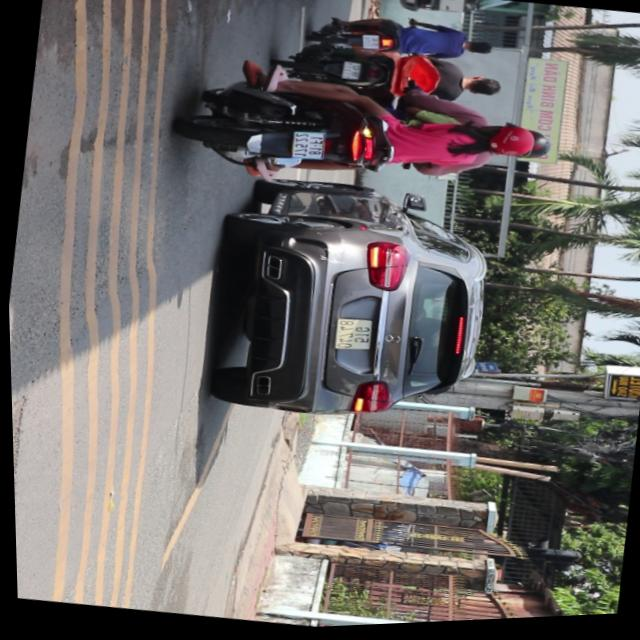helmet: (472, 123, 541, 170), (519, 134, 554, 168)
licenseplate: (173, 56, 561, 222), (272, 36, 507, 121)
motorcyclist: (459, 78, 502, 105)
nohelmet: (290, 132, 326, 165), (341, 65, 360, 84)
